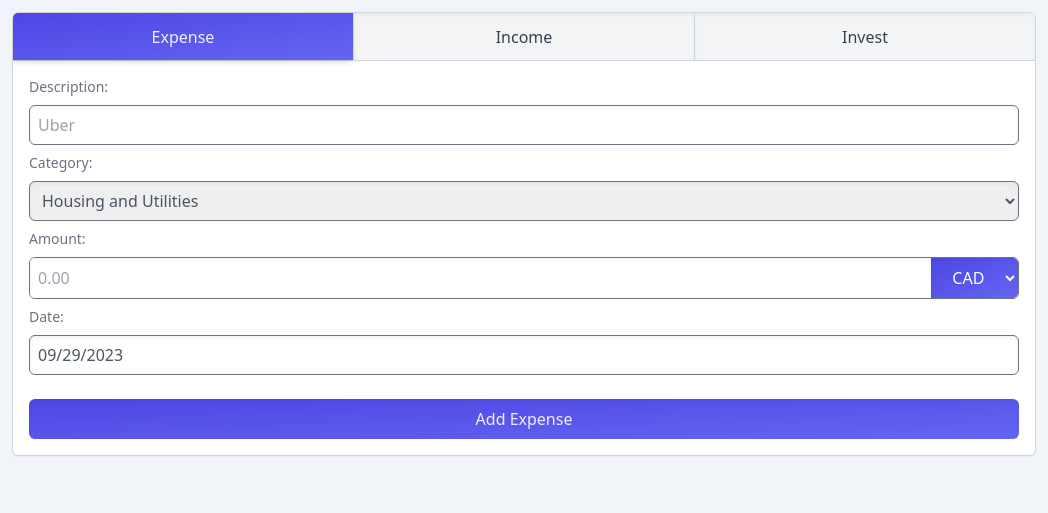
Test: CreateTransactionForm › Handles valid inputs › Error messages cleared after typing in inputs
Click the button "Add Expense".
click(524, 419)  # box [29,399,1019,439]
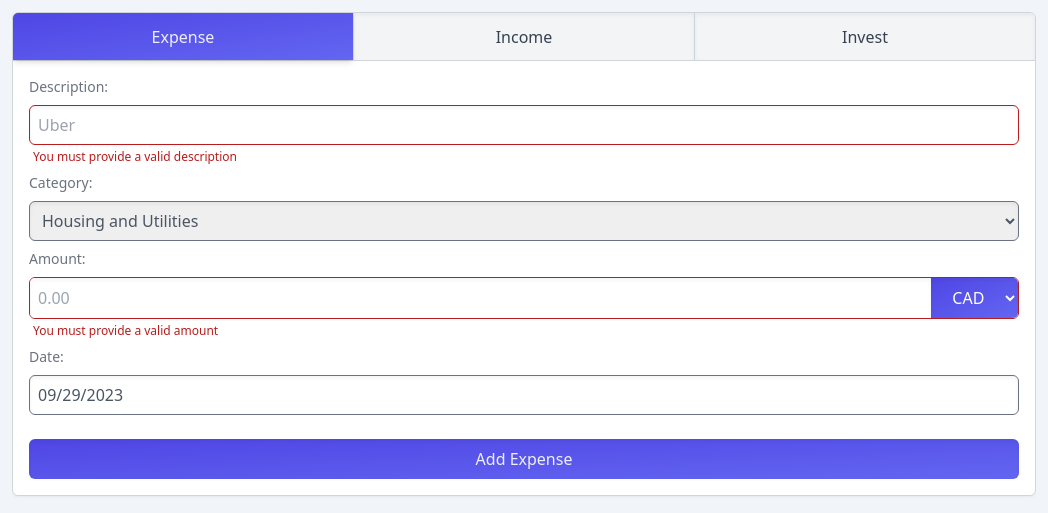
Type "Chocolate" into the field with placeholder "Uber".
click(524, 125); type("Chocolate")  # box [29,105,1019,145]
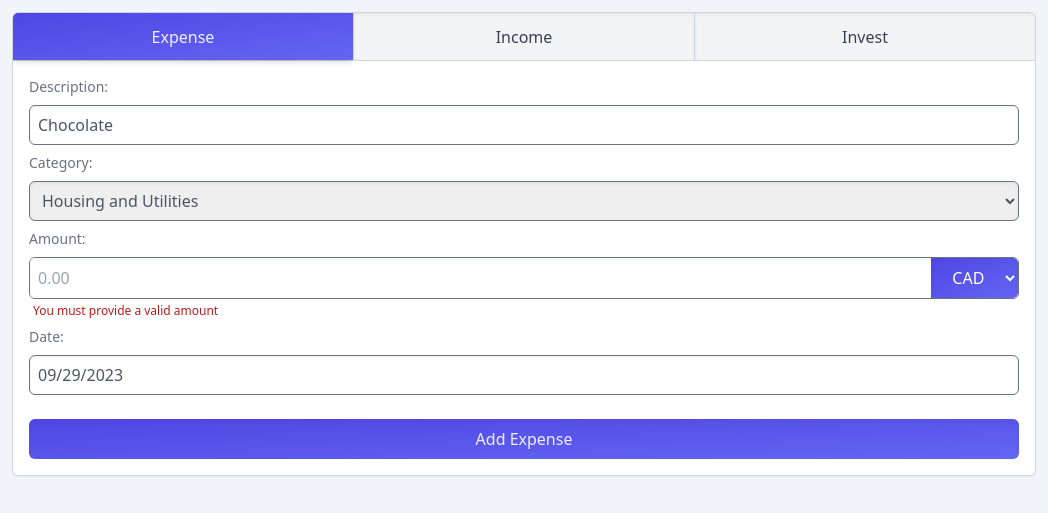
Type "10.43" into the number field with placeholder "0.00".
click(480, 278); type("10.43")  # box [30,258,931,298]
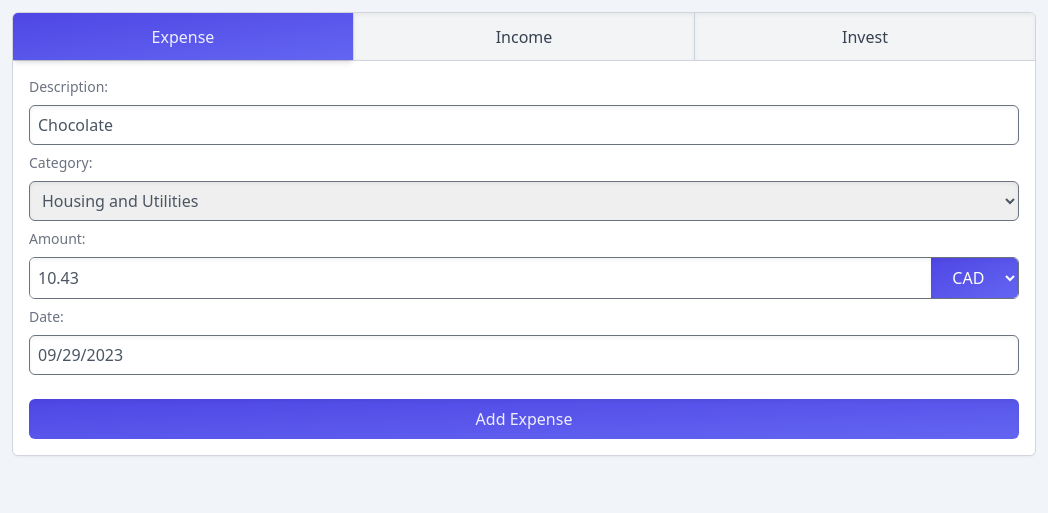
Expected: the text "You must provide a valid description" is not shown
Now the text "You must provide a valid amount" is gone
